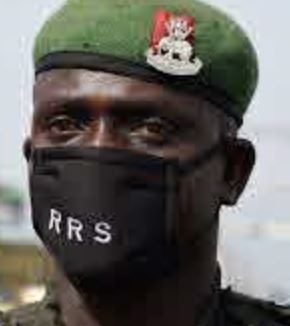with_facemask: (36, 150, 189, 289)
